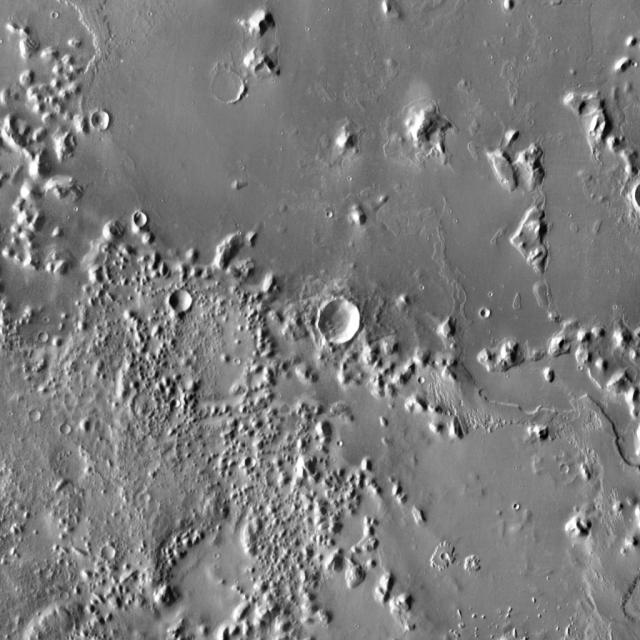crater: (321, 303, 365, 347), (212, 71, 246, 105), (56, 451, 87, 482), (172, 292, 195, 314), (92, 112, 111, 131), (102, 548, 116, 562), (134, 212, 147, 225), (29, 411, 40, 421), (60, 425, 70, 435), (247, 458, 257, 468), (172, 400, 182, 409), (483, 312, 492, 321), (61, 594, 70, 602), (41, 336, 49, 344), (562, 466, 570, 474), (438, 548, 444, 556), (233, 358, 240, 364), (415, 374, 421, 379)
